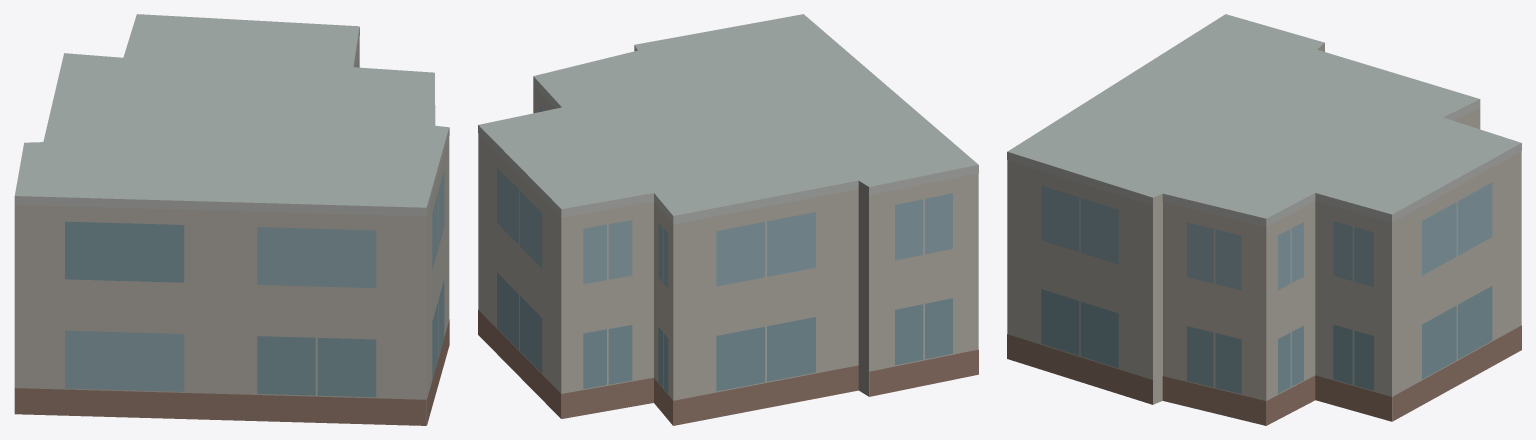
The model's file is survey-upis-32816952.glb.
3 renders of one model, left to right at view 1: azimuth 30°, elevation 25°; view 2: azimuth 150°, elevation 25°; view 3: azimuth 270°, elevation 25°, orthographic. The views are drawn at different scales.
Parts seen in each view (by area): view 1: survey-upis-32816952.tmp; view 2: survey-upis-32816952.tmp; view 3: survey-upis-32816952.tmp.
Boxes of the visible parts, x1,y1,x2,y2 form: survey-upis-32816952.tmp: (14, 14, 449, 425); survey-upis-32816952.tmp: (478, 14, 978, 425); survey-upis-32816952.tmp: (1007, 14, 1521, 425).
Size of the model in its own units: 12.93 by 6.1 by 13.74.
